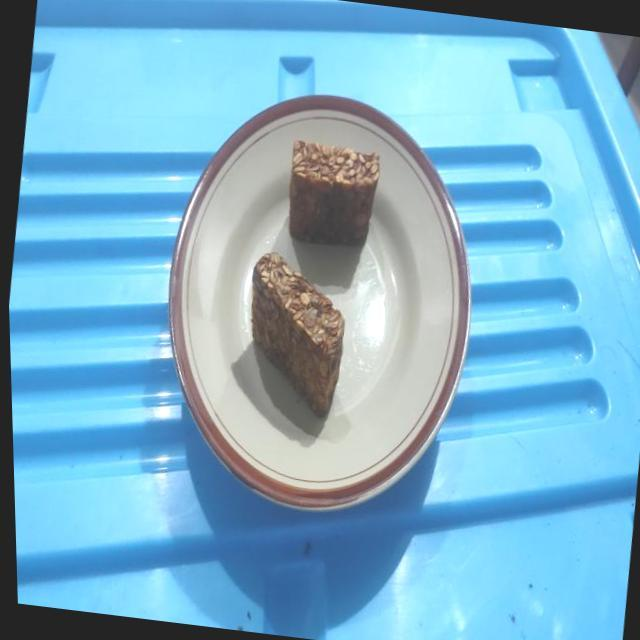tempe_goreng: (251, 252, 344, 416), (288, 140, 378, 244)
